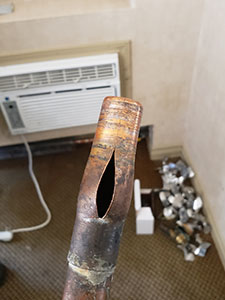rupture: (92, 148, 118, 220)
